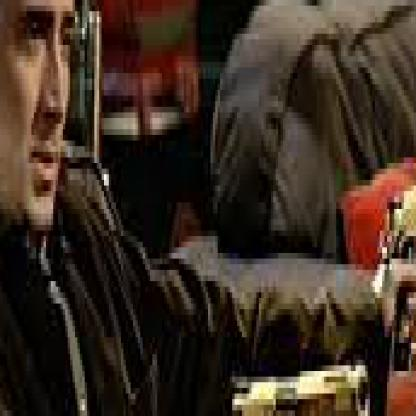gun: (14, 0, 414, 411)
